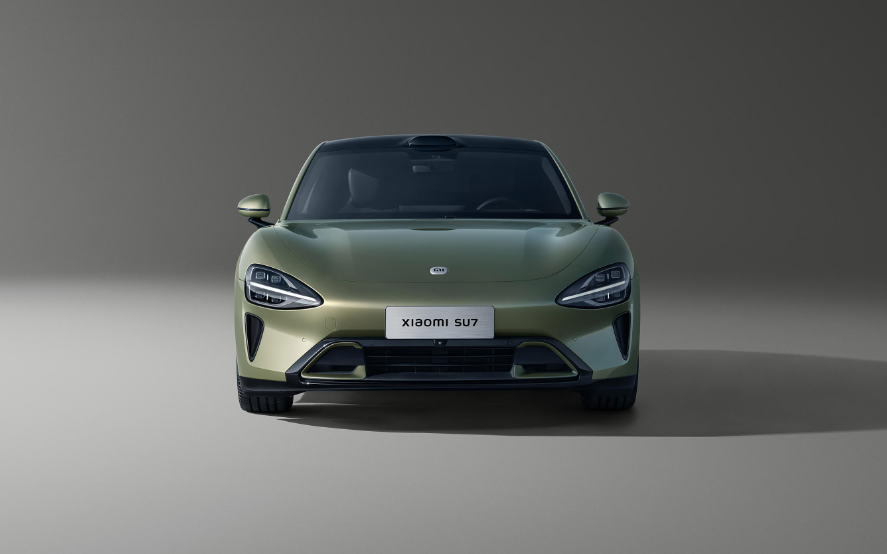other: (225, 124, 639, 427)
